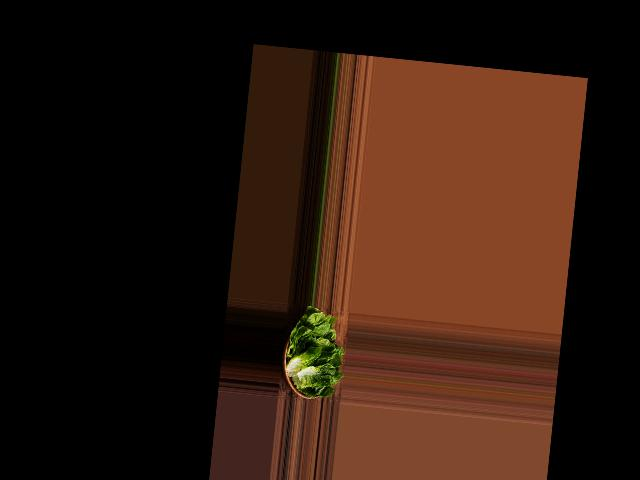lettuce: (278, 305, 346, 405)
